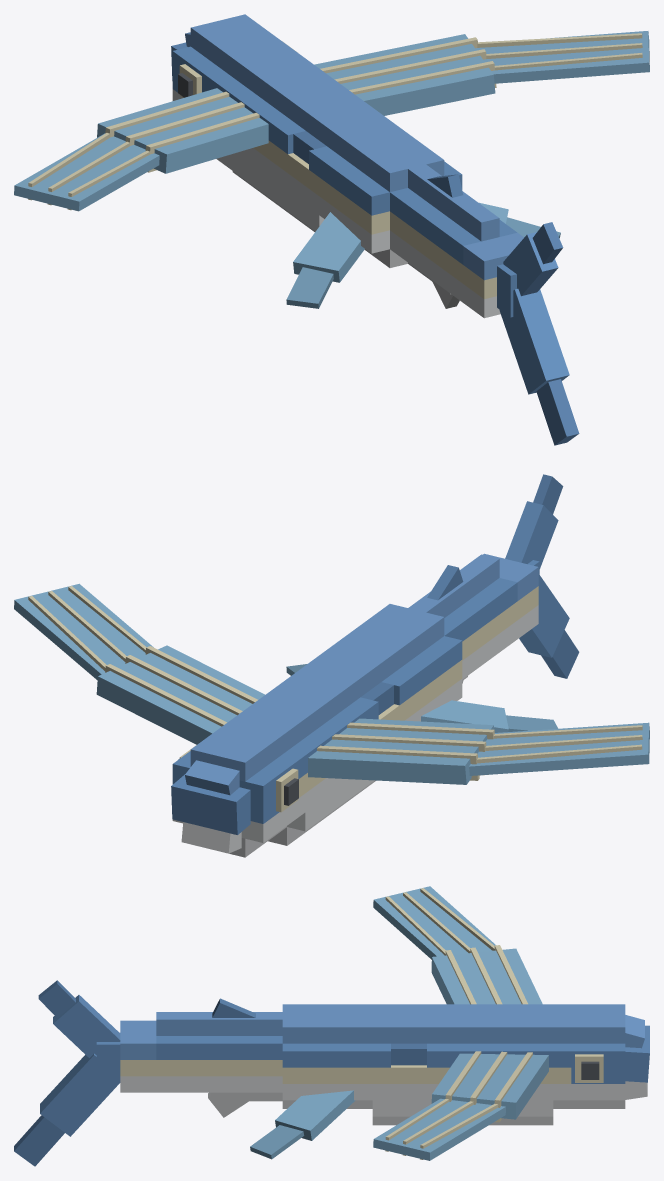
File: FlyingFish.glb
The picture shows the model from 3 angles, top to bottom: view 1: azimuth 30°, elevation 25°; view 2: azimuth 150°, elevation 25°; view 3: azimuth 270°, elevation 25°; orthographic projection. The views are drawn at different scales.
Visible parts, largest first — view 1: WingR, WingL, S3, Tail, S2, S5, S1, Head, S4; view 2: WingL, WingR, Head, S3, S1, S2, Tail, S5, S4; view 3: S3, WingL, WingR, Head, S2, Tail, S4, S5, S1.
Boxes of the visible parts, x1,y1,x2,y2 form: WingR: [314, 31, 649, 115]; WingL: [14, 88, 268, 211]; S3: [286, 121, 560, 308]; Tail: [497, 222, 579, 445]; S2: [267, 83, 391, 231]; S5: [431, 195, 523, 318]; S1: [214, 45, 338, 209]; Head: [171, 14, 297, 100]; S4: [390, 164, 467, 308]; WingL: [308, 718, 649, 784]; WingR: [14, 583, 264, 744]; Head: [171, 719, 305, 857]; S3: [286, 604, 557, 732]; S1: [233, 680, 357, 845]; S2: [285, 642, 409, 806]; Tail: [505, 474, 579, 678]; S5: [460, 553, 538, 661]; S4: [408, 565, 486, 683]; S3: [250, 1004, 372, 1159]; WingL: [373, 886, 542, 1004]; WingR: [373, 1051, 548, 1160]; Head: [553, 1004, 649, 1108]; S2: [372, 1004, 462, 1125]; Tail: [14, 980, 120, 1166]; S4: [208, 998, 282, 1117]; S5: [120, 1012, 210, 1092]; S1: [463, 1004, 553, 1125].
Size of the model in its own units: 12.25 by 3.9 by 12.33.
